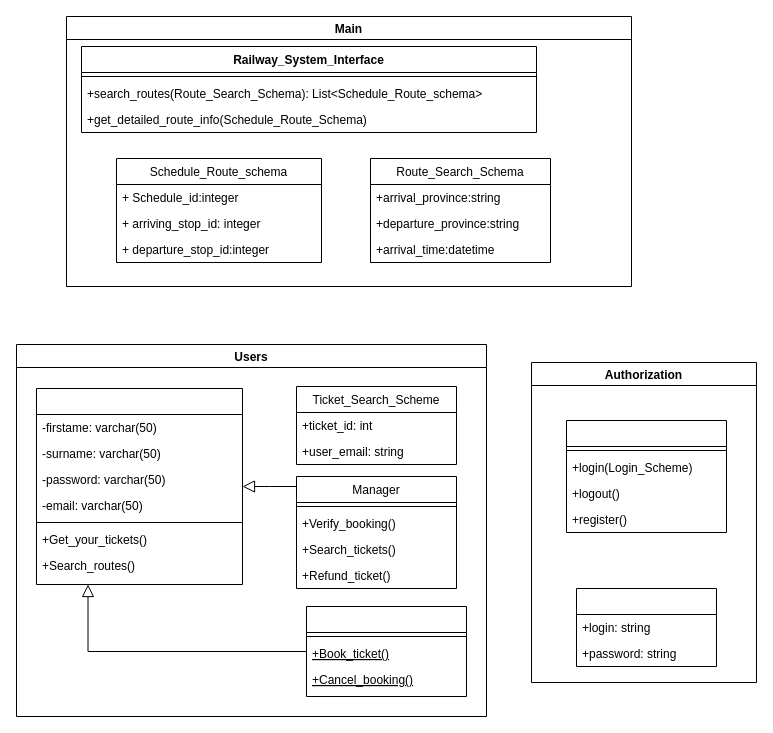
This 773x733 diagram has some shape labels left out. Here are the shapes that lost their labels. From the top down, the box of each, then its label:
(36, 388, 242, 584): User
(566, 420, 726, 532): Authorization.func
(576, 588, 716, 666): Login Scheme
(306, 606, 466, 696): Client
